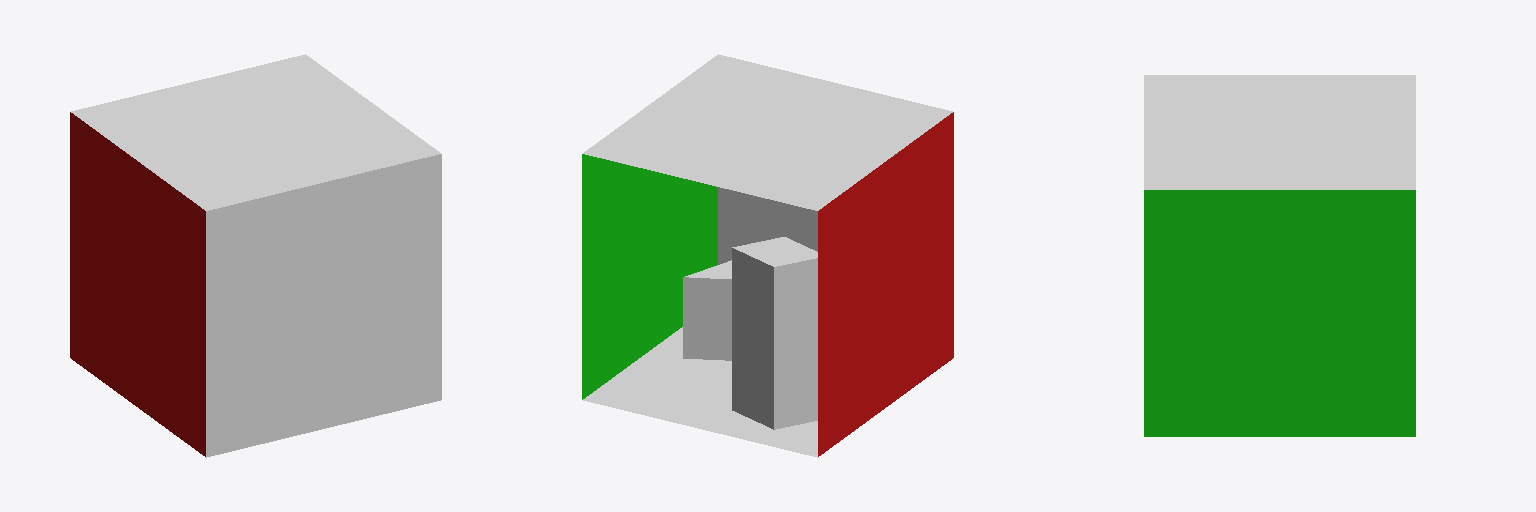
Rendered from cornell_box.obj.
The picture shows the model from 3 angles: view 1: azimuth 30°, elevation 25°; view 2: azimuth 150°, elevation 25°; view 3: azimuth 270°, elevation 25°; orthographic projection.
Size of the model in its own units: 5 by 5 by 5.